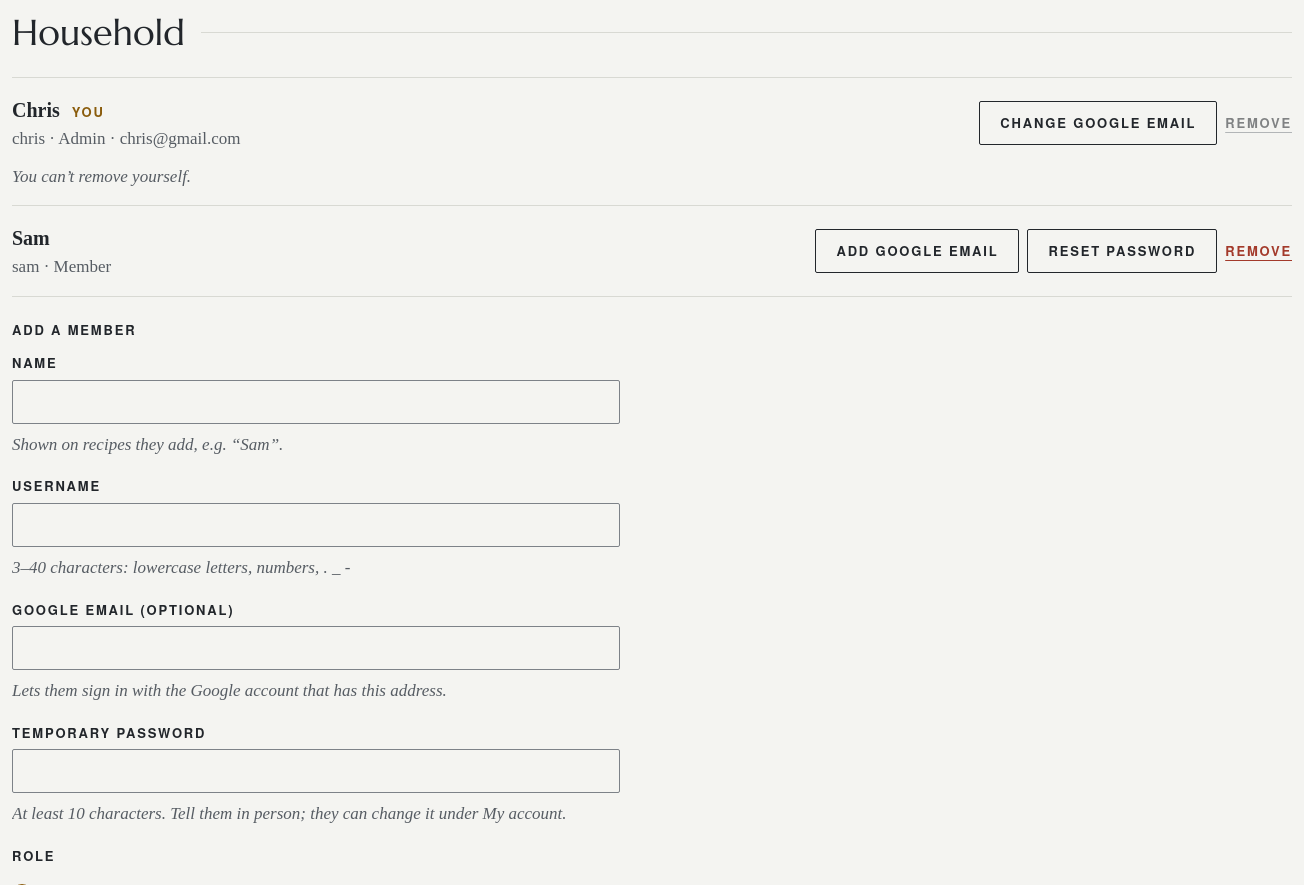
Test: HouseholdSection member email › warns before saving that changing or clearing disconnects Google sign-in, but not for a first email
The image size is (1304, 885).
Click the button with aria-label "Add Google email for Sam": x=918, y=251 [816,229,1020,273]
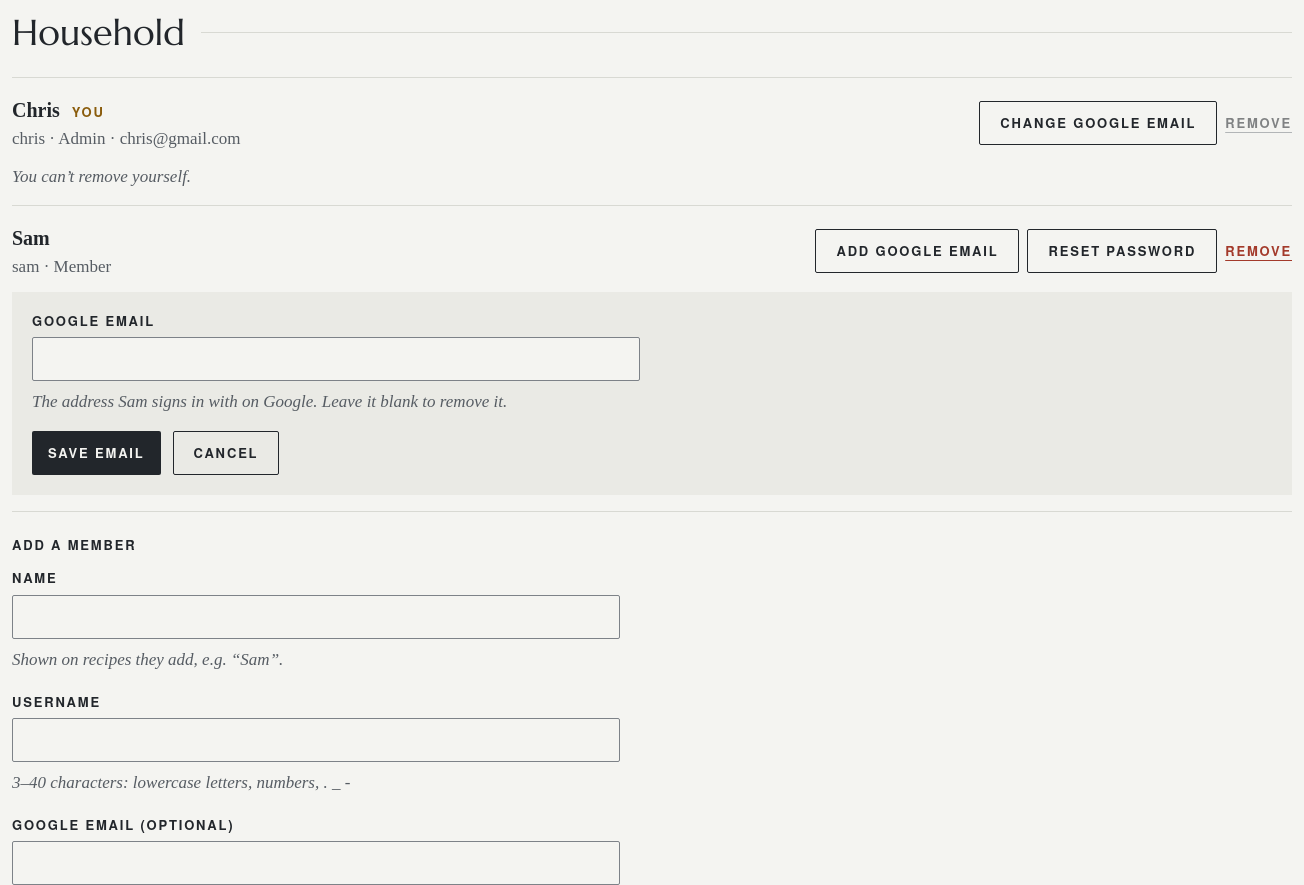
Click the button "Cancel": x=226, y=453 [173,431,279,475]
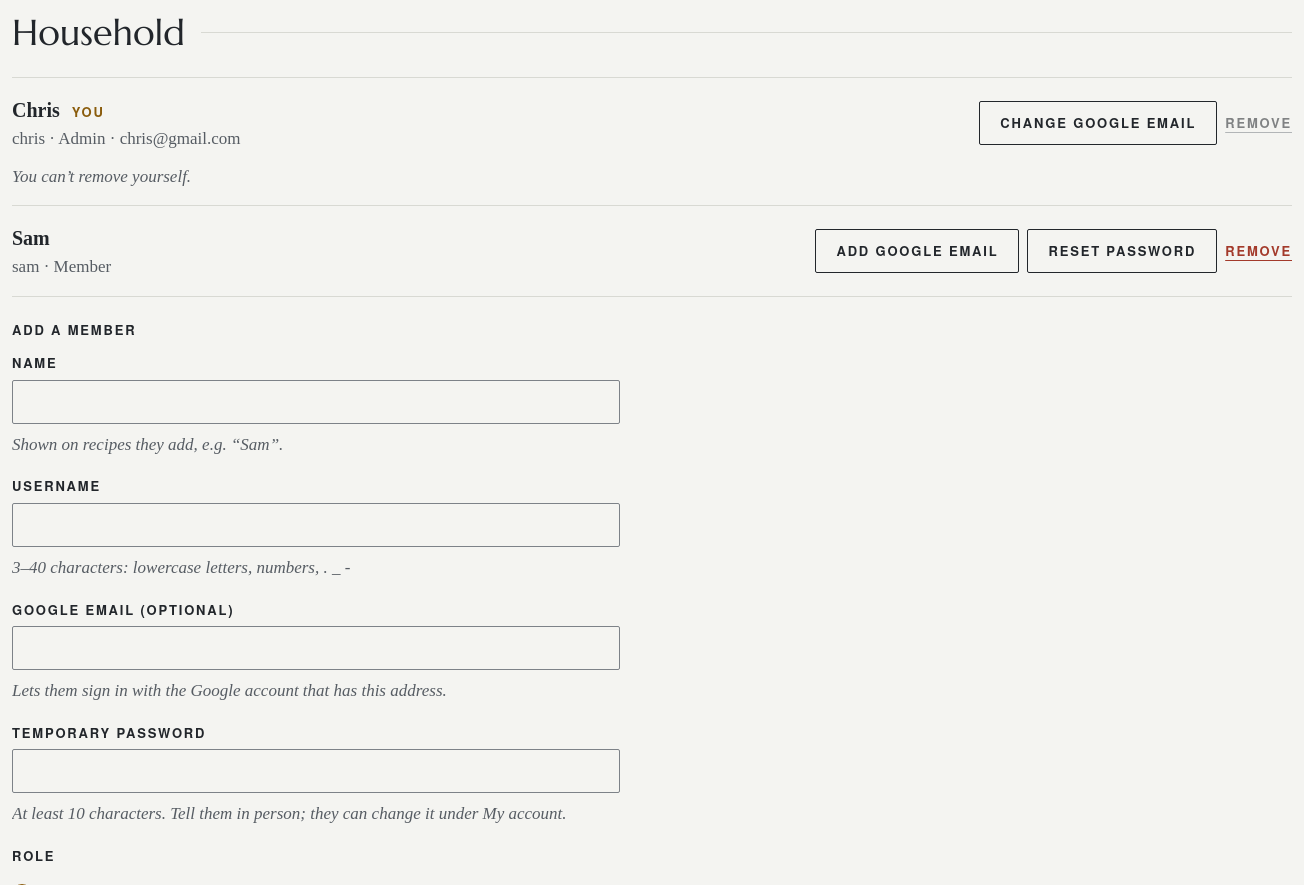
Click the button with aria-label "Change Google email for Chris": x=1098, y=123 [979,101,1217,145]
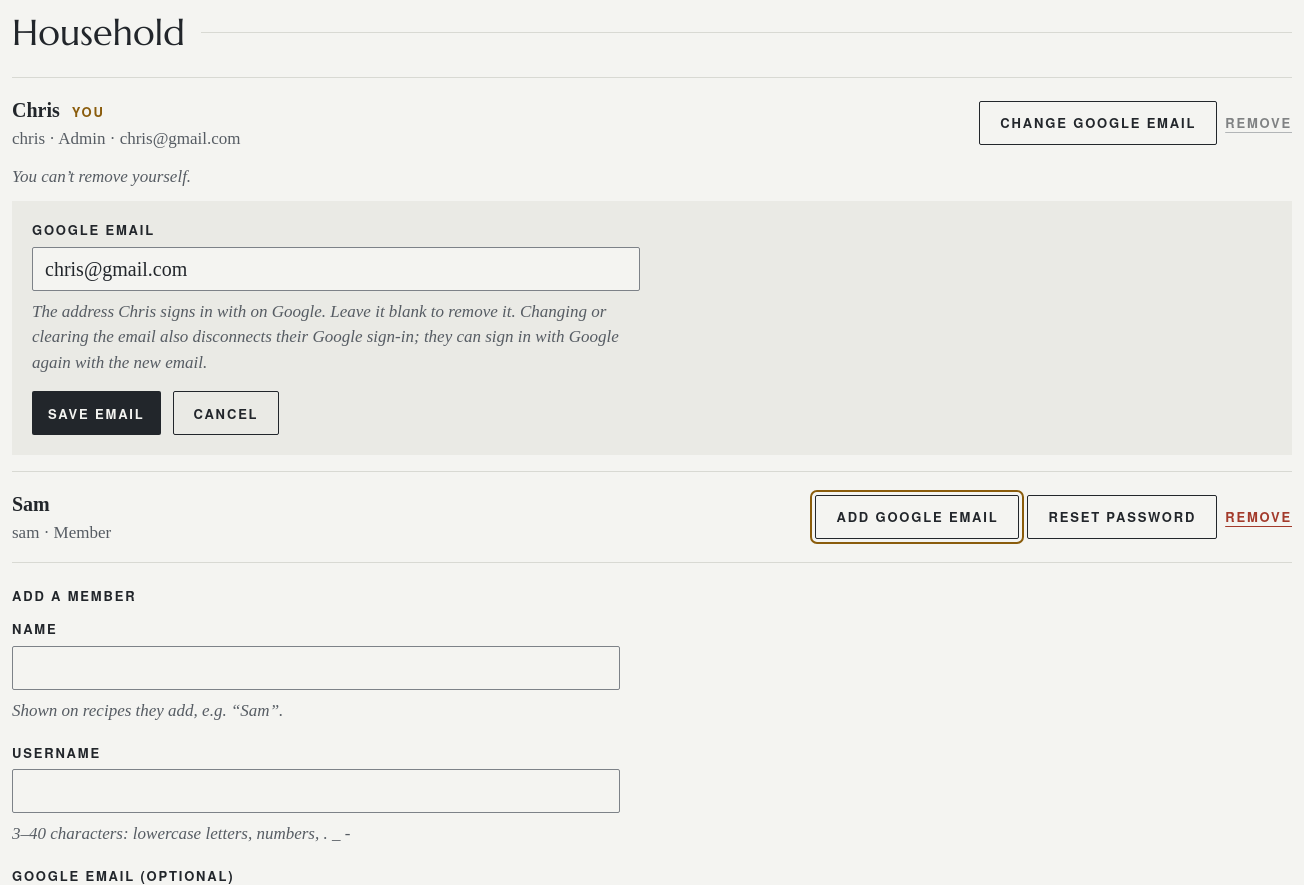
Now the text "Changing or clearing the email also disconnects their Google sign-in; they can sign in with Google again with the new em" is shown, box [32,302,619,372]
